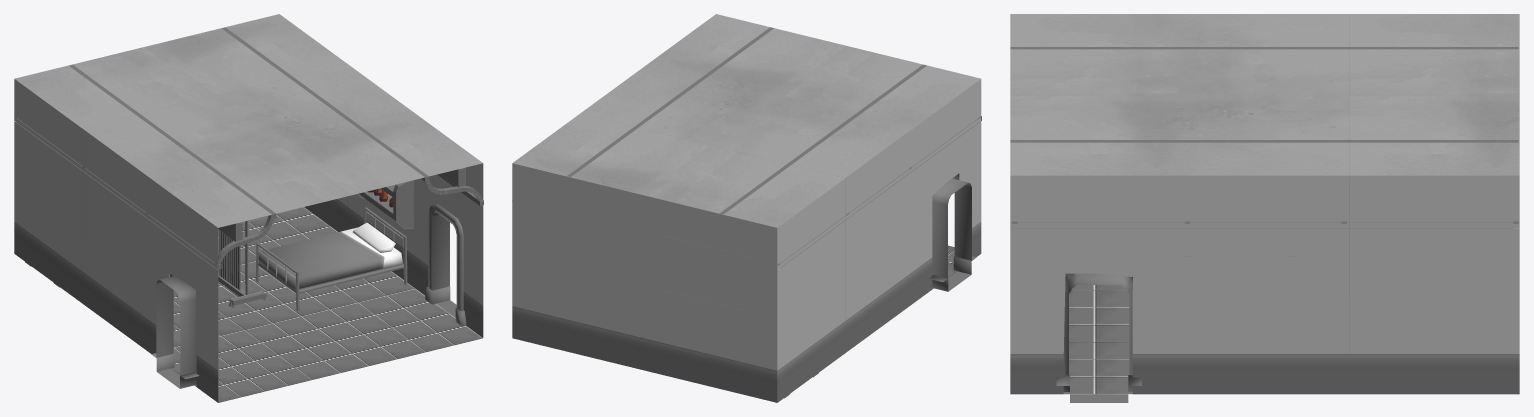
Rendered from MSH_Med_room_L2_R1_optimized.fbx.
3 renders of one model, left to right at view 1: azimuth 30°, elevation 25°; view 2: azimuth 150°, elevation 25°; view 3: azimuth 270°, elevation 25°, orthographic. The views are drawn at different scales.
Parts seen in each view (by area): view 1: lightmap1, lightmap0, lightmap-1; view 2: lightmap1, lightmap-1; view 3: lightmap1, lightmap-1.
Part boxes in pixels (box(x1,y1,x2,y2)): lightmap1: box(14, 14, 483, 402); lightmap0: box(25, 180, 413, 310); lightmap-1: box(156, 212, 456, 388); lightmap1: box(512, 14, 981, 402); lightmap-1: box(932, 178, 971, 291); lightmap1: box(1010, 14, 1519, 394); lightmap-1: box(1069, 274, 1129, 402).
Size of the model in its own units: 10.3 by 5.95 by 12.39.
